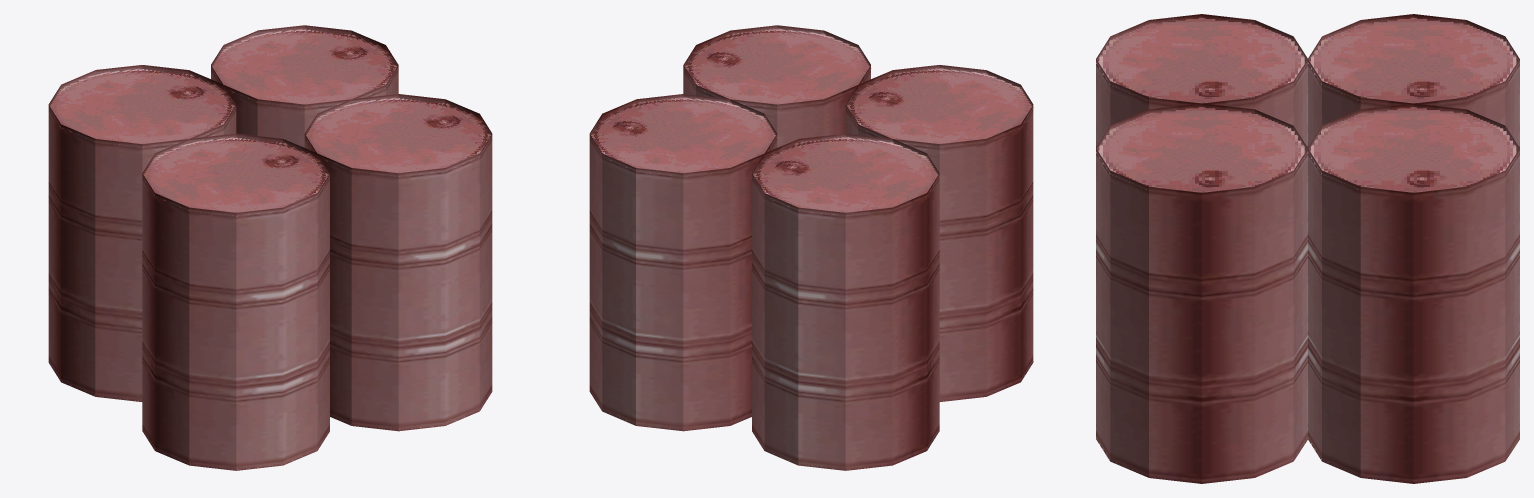
Rendered from imoildrum4_las.obj.
The picture shows the model from 3 angles, left to right: view 1: azimuth 30°, elevation 25°; view 2: azimuth 150°, elevation 25°; view 3: azimuth 270°, elevation 25°; orthographic projection. The views are drawn at different scales.
Visible parts, largest first — view 1: imoildrum4_LAS; view 2: imoildrum4_LAS; view 3: imoildrum4_LAS.
Part boxes in pixels (bbox=[...]): imoildrum4_LAS: bbox=[48, 25, 492, 470]; imoildrum4_LAS: bbox=[589, 25, 1033, 470]; imoildrum4_LAS: bbox=[1096, 14, 1519, 483].
Bounding box in the file's own units: 1.26 × 0.96 × 1.27.
2 materials, 2 textured.
